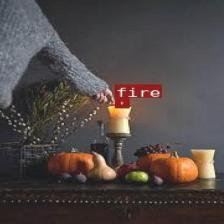fire: (113, 97, 128, 107)
